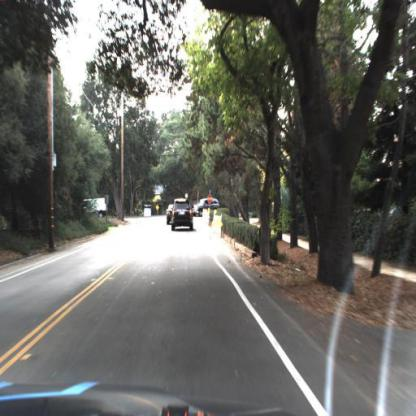car: (171, 197, 196, 232), (194, 196, 220, 217), (167, 203, 174, 228), (167, 205, 175, 224)
